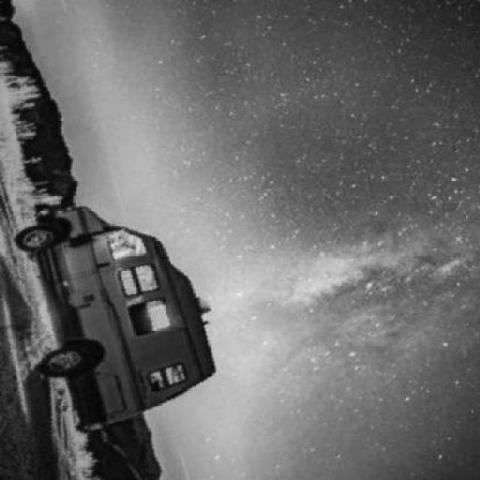van: (16, 204, 215, 428)
